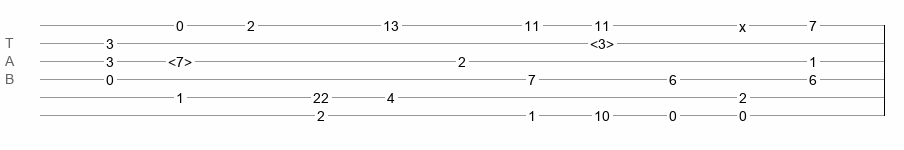0: (106, 72, 114, 82), (176, 18, 184, 28), (669, 108, 677, 118), (739, 108, 747, 118)
1: (176, 90, 184, 100), (528, 108, 536, 118), (809, 54, 817, 64)
10: (594, 108, 610, 118)
11: (524, 18, 540, 28), (594, 18, 610, 28)
13: (383, 18, 399, 28)
2: (247, 18, 255, 28), (317, 108, 325, 118), (458, 54, 466, 64), (739, 90, 747, 100)
22: (313, 90, 329, 100)
3: (106, 54, 114, 64), (106, 36, 114, 46)
4: (387, 90, 395, 100)
6: (669, 72, 677, 82), (809, 72, 817, 82)
7: (528, 72, 536, 82), (809, 18, 817, 28)
harmonic: (168, 54, 192, 64), (590, 36, 614, 46)
x: (739, 19, 746, 27)
